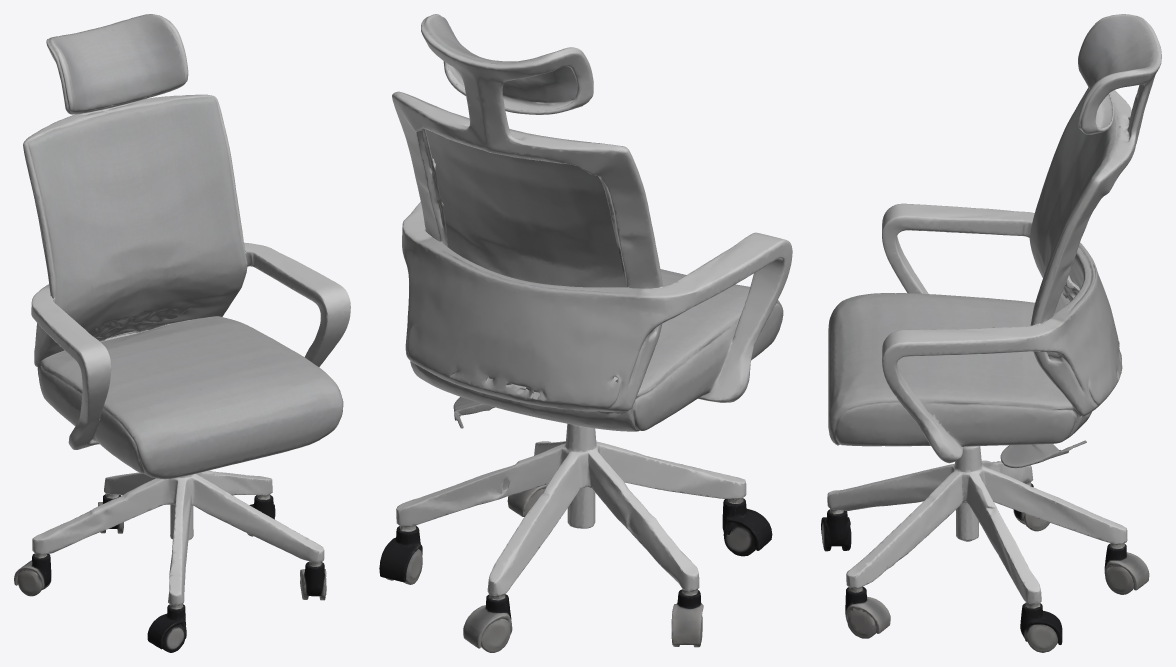
Rendered from office_chair_ergonomic.glb.
3 renders of one model, left to right at view 1: azimuth 30°, elevation 25°; view 2: azimuth 150°, elevation 25°; view 3: azimuth 270°, elevation 25°, orthographic. The views are drawn at different scales.
Parts seen in each view (by area): view 1: world; view 2: world; view 3: world.
Boxes of the visible parts, box(x1,y1,x2,y2) form: world: box(14, 14, 350, 652); world: box(379, 14, 792, 652); world: box(821, 14, 1161, 652).
Bounding box in the file's own units: 0.5531 × 1 × 0.567.
Materials: 1 (1 with a texture image).
